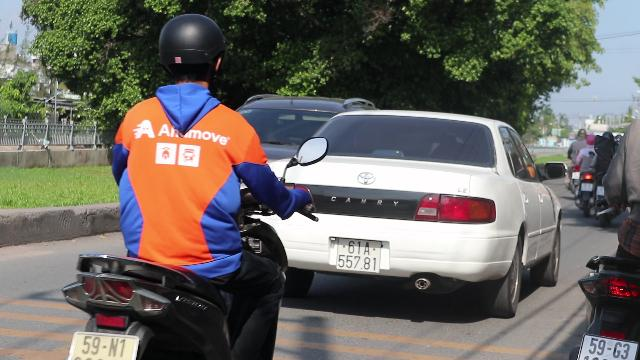helmet: (156, 13, 228, 91)
motorcyclist: (56, 12, 324, 358)
